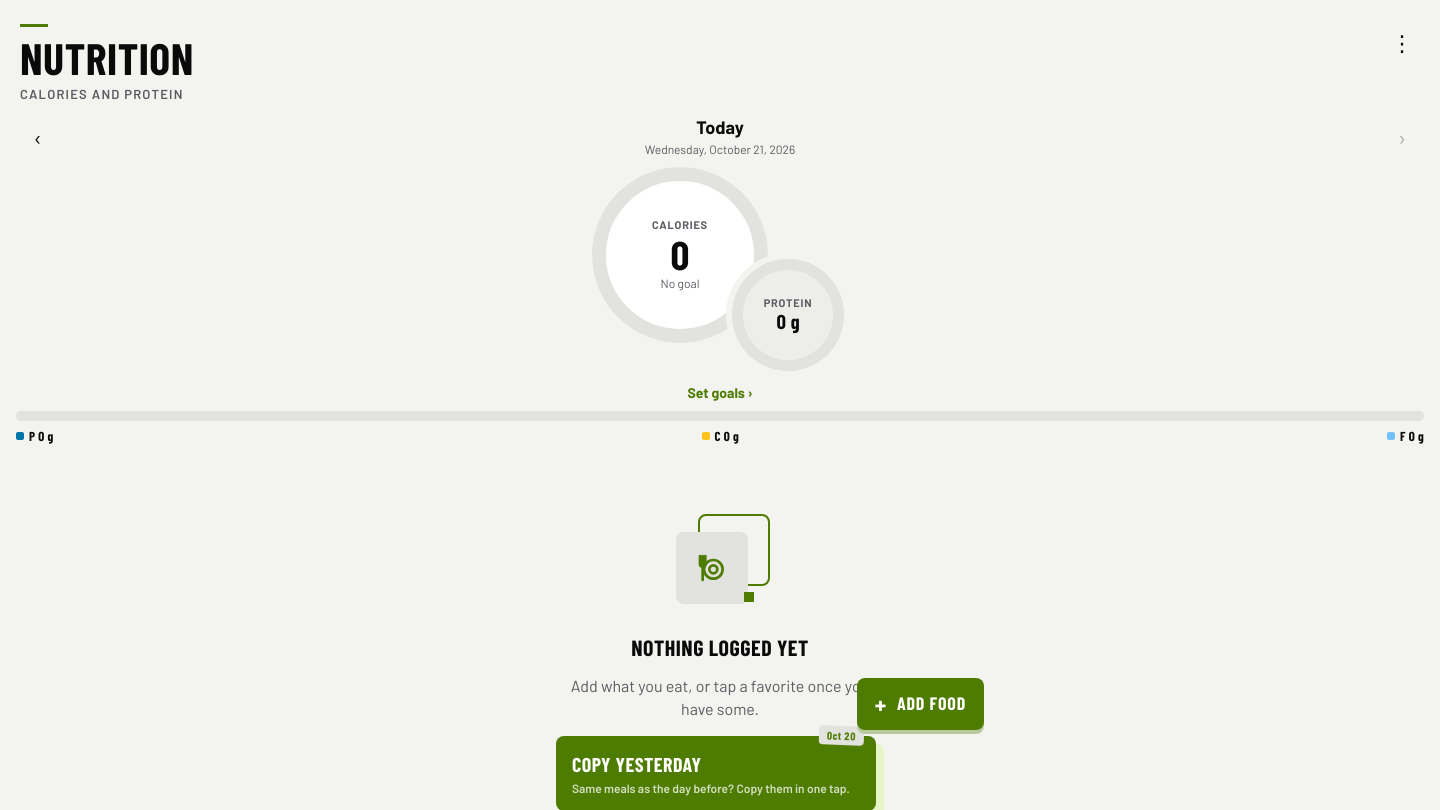
it: copy yesterday › copies the previous day into an empty day and undoes exactly the copies
Click the button with test id "copy-previous-day" at x=637, y=764, box [556,736,876,809]
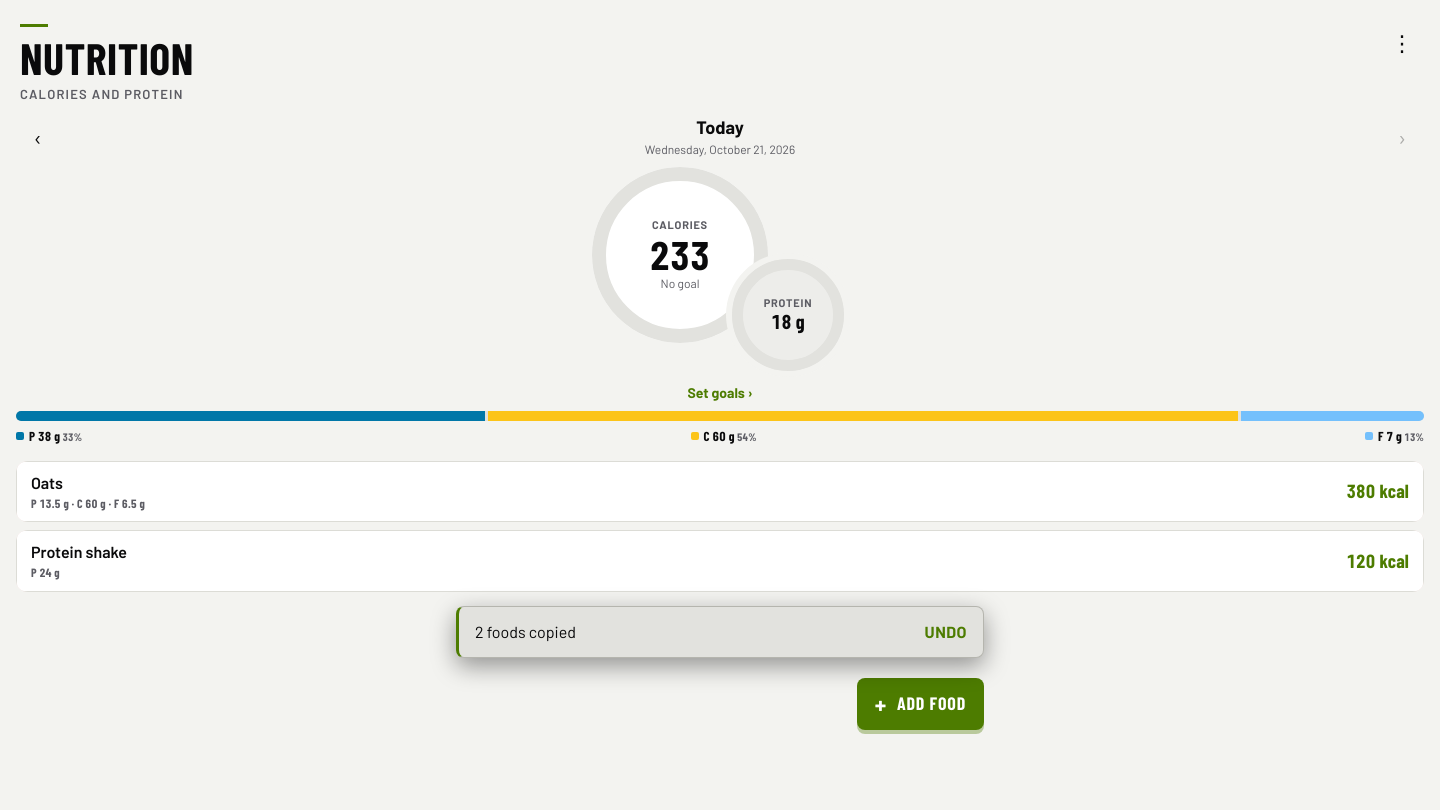
Expected: the text "Oats" is shown, [31,473,63,492]
Expected: the text "Protein shake" is shown, [31,542,127,561]
Click the button "Undo" at x=946, y=632, box [925,621,967,643]
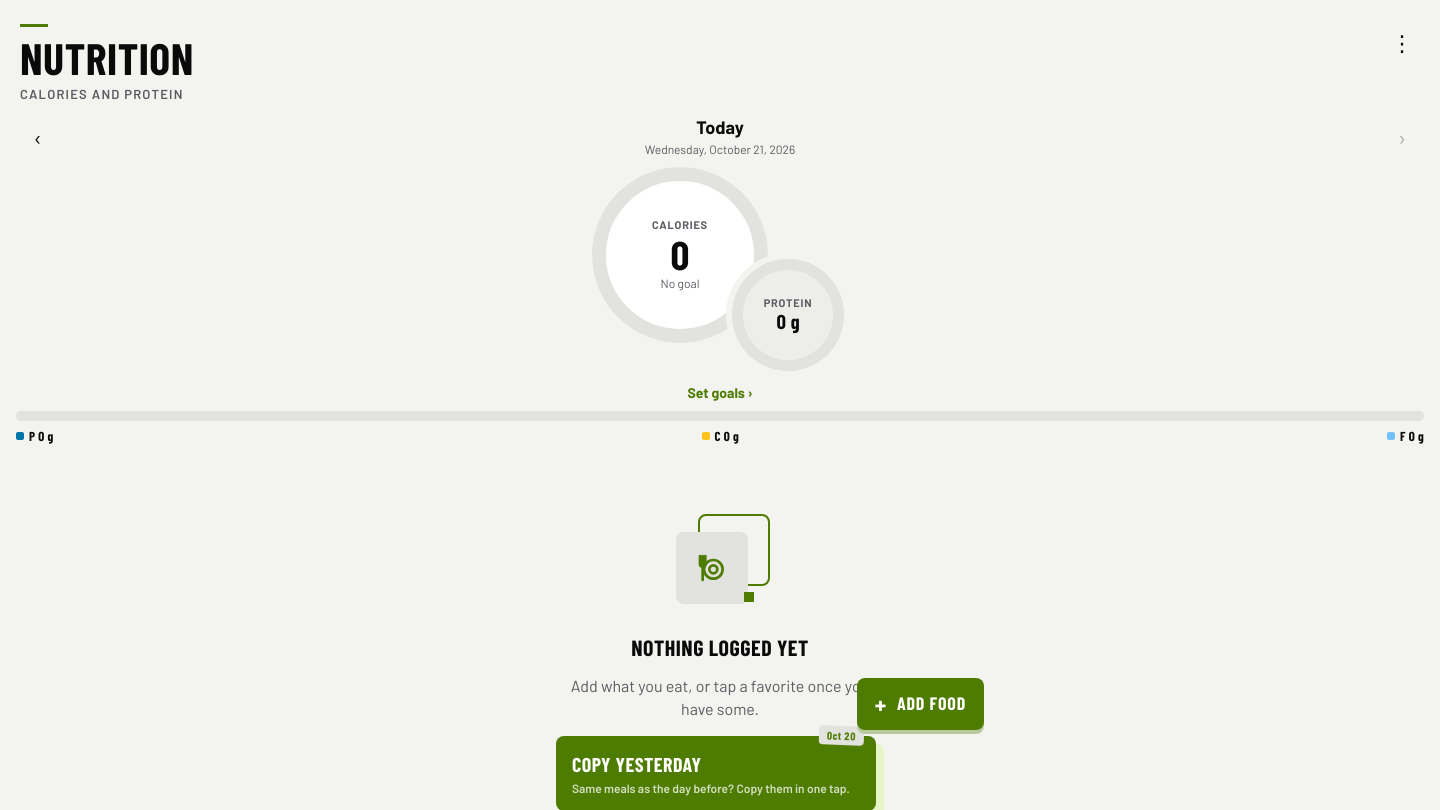
Expected: the button with test id "copy-previous-day" is shown, [556,736,876,809]
